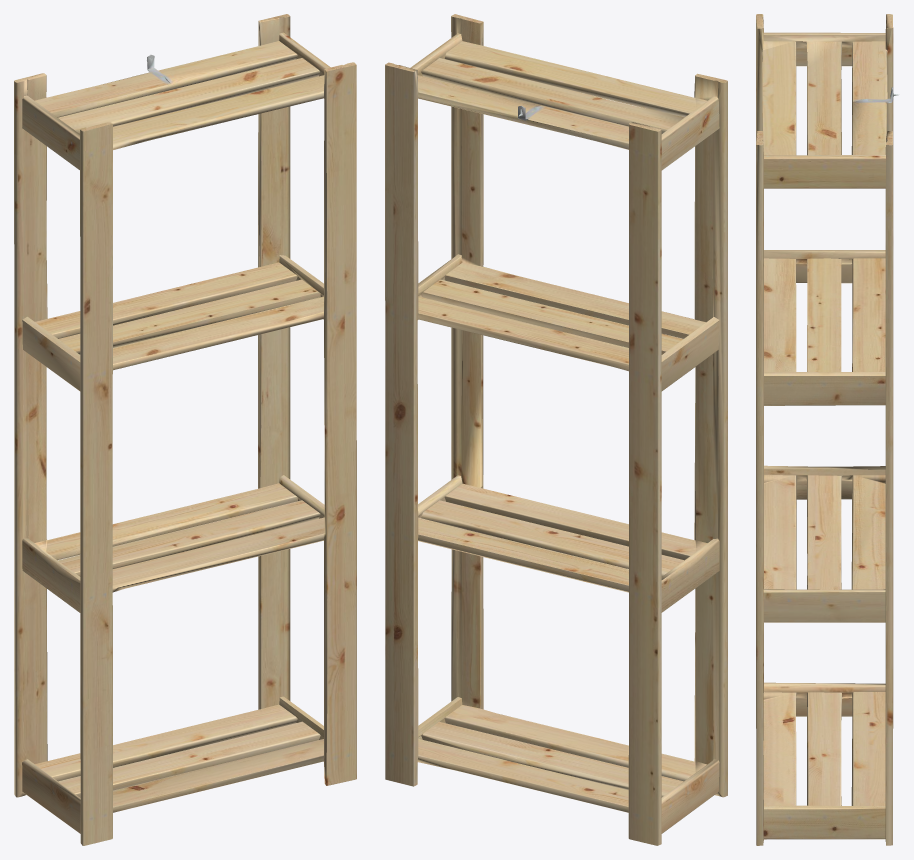
The model's file is albert_rega_00111994.glb.
The picture shows the model from 3 angles, left to right: view 1: azimuth 30°, elevation 25°; view 2: azimuth 150°, elevation 25°; view 3: azimuth 270°, elevation 25°; orthographic projection.
Parts seen in each view (by area): view 1: albert_rega_00111994; view 2: albert_rega_00111994; view 3: albert_rega_00111994.
Boxes of the visible parts, left/top/right/bottom form: albert_rega_00111994: left=14, top=14, right=356, bottom=845; albert_rega_00111994: left=385, top=14, right=727, bottom=845; albert_rega_00111994: left=756, top=14, right=899, bottom=845.
Bounding box in the file's own units: 0.639 × 1.59 × 0.296.
Materials: 1 (1 with a texture image).
